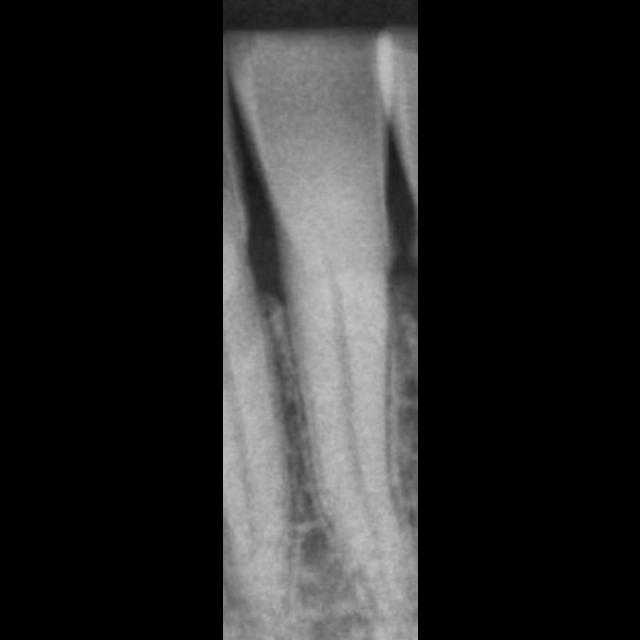tooth: (222, 26, 410, 624)
